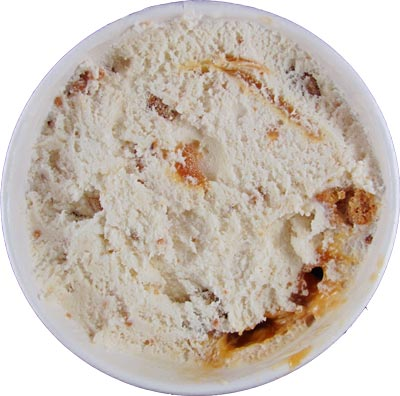ice-cream: (18, 14, 384, 374)
